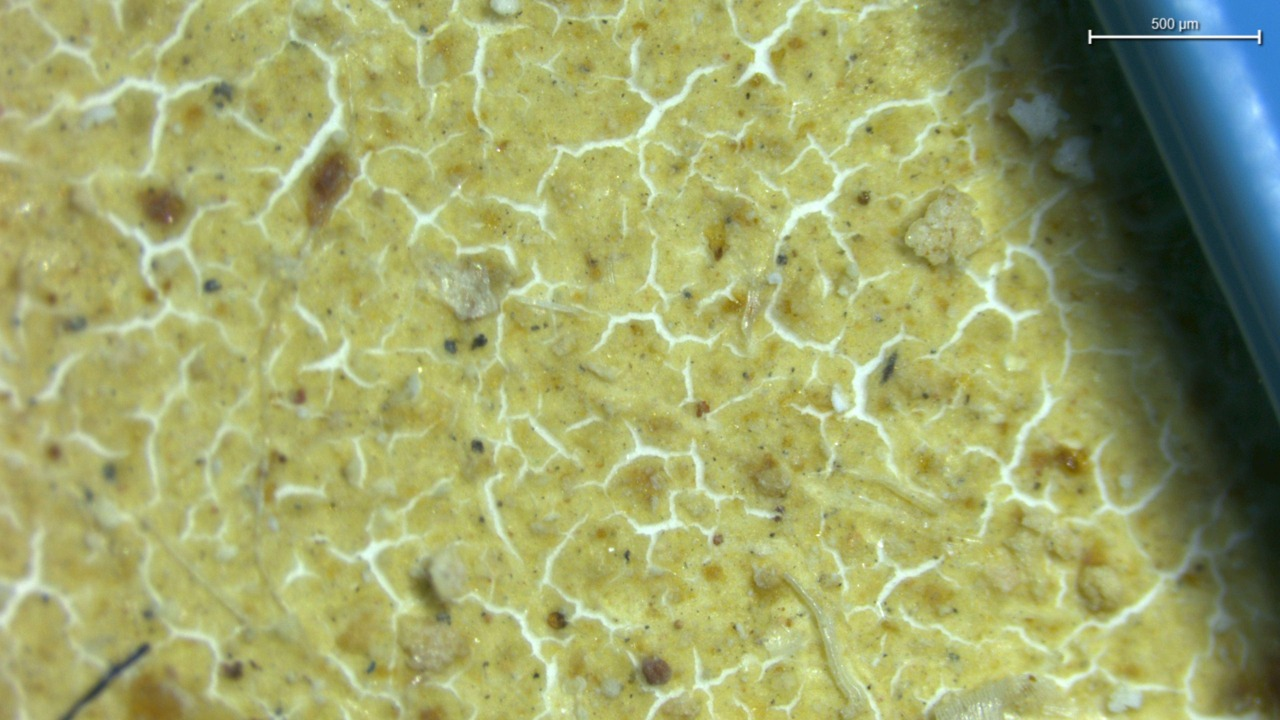microplastic_fragment: (905, 187, 984, 265), (420, 254, 499, 320), (1009, 93, 1063, 142), (1051, 136, 1095, 185), (426, 551, 466, 603)
